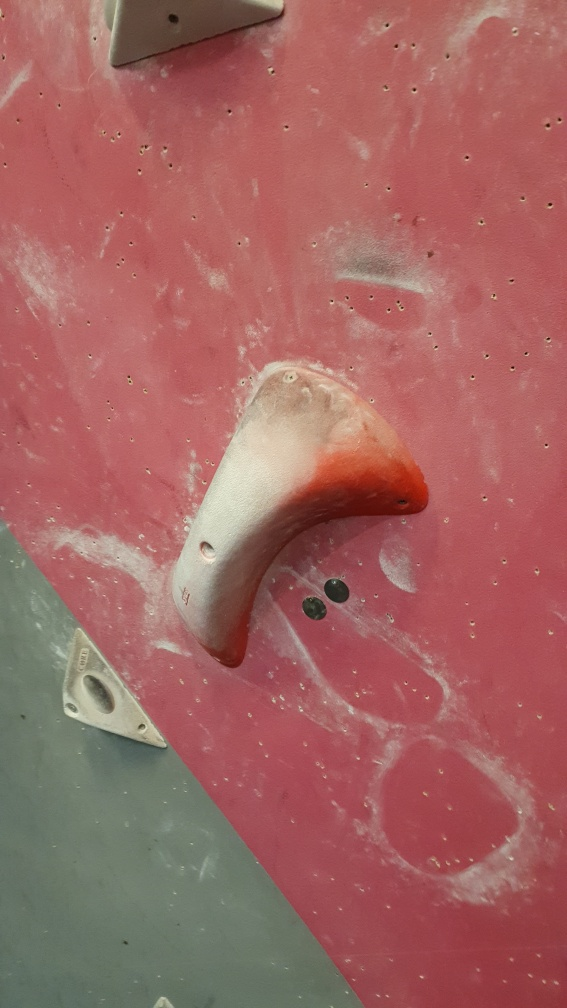Hand Start: (323, 577, 351, 604), (299, 595, 326, 621)
Pinch: (170, 367, 431, 669)
